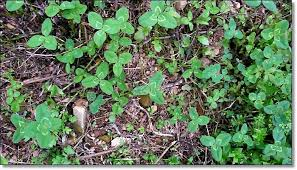4-clover: (22, 105, 63, 148)
